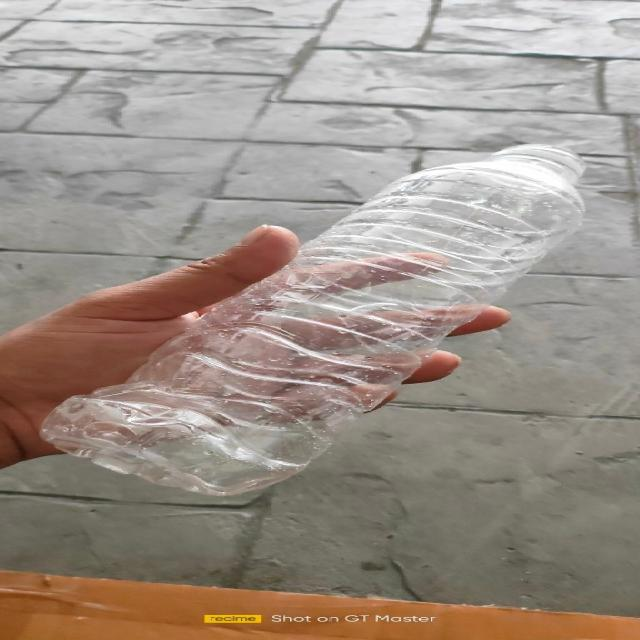plastic_bottle: (40, 144, 585, 495)
